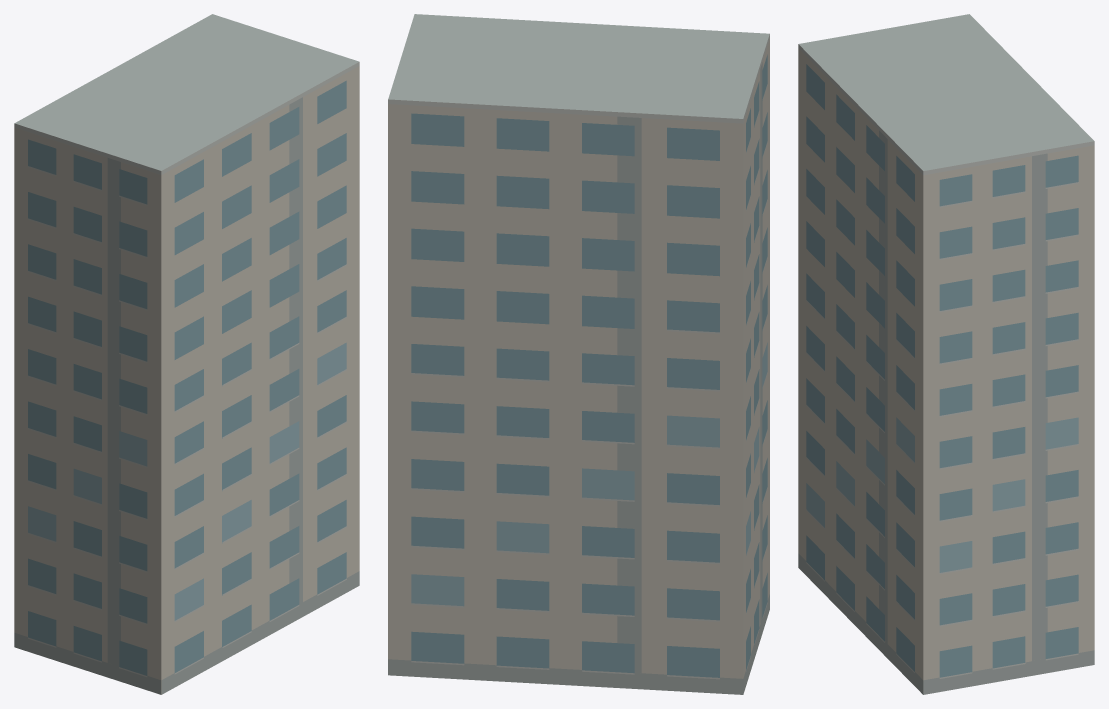
The model's file is residential-38c82daa-b1e7-498f-9e5c-68ac1ddd8406.glb.
3 renders of one model, left to right at view 1: azimuth 30°, elevation 25°; view 2: azimuth 150°, elevation 25°; view 3: azimuth 270°, elevation 25°, orthographic. The views are drawn at different scales.
Visible parts, largest first — view 1: residential-38c82daa-b1e7-498f-9e5c-68ac1ddd8406.tmp; view 2: residential-38c82daa-b1e7-498f-9e5c-68ac1ddd8406.tmp; view 3: residential-38c82daa-b1e7-498f-9e5c-68ac1ddd8406.tmp.
Boxes of the visible parts, <box> form: residential-38c82daa-b1e7-498f-9e5c-68ac1ddd8406.tmp: <box>14,14,359,694</box>; residential-38c82daa-b1e7-498f-9e5c-68ac1ddd8406.tmp: <box>388,14,769,694</box>; residential-38c82daa-b1e7-498f-9e5c-68ac1ddd8406.tmp: <box>798,14,1094,694</box>.
Bounding box in the file's own units: 19.96 × 31 × 15.9.
